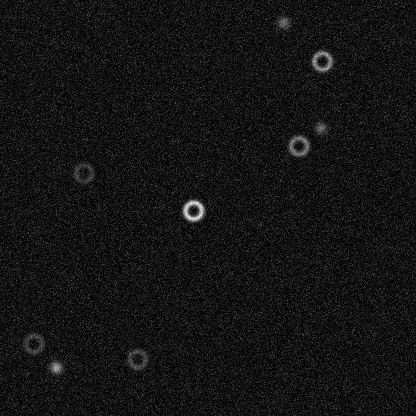Ring: (21, 331, 45, 355), (181, 198, 205, 222), (310, 49, 334, 73), (286, 133, 310, 157), (125, 347, 149, 371), (71, 160, 95, 184)
Spot: (275, 14, 291, 30), (312, 119, 328, 135), (47, 359, 63, 375)
